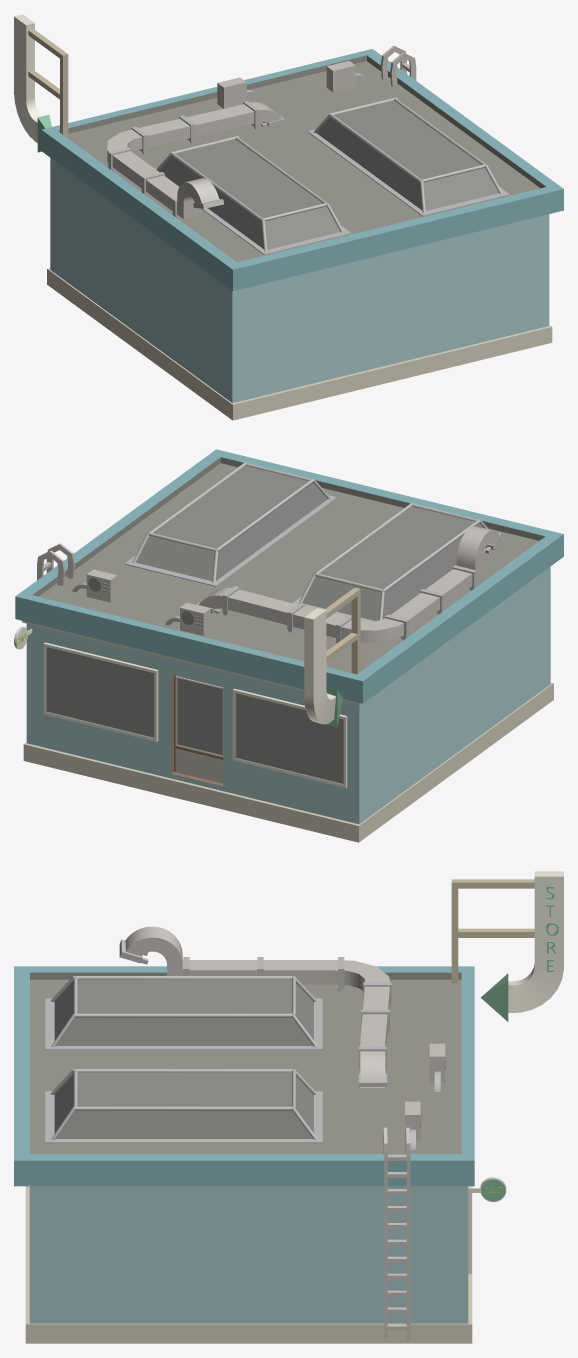
File: house27.fbx
3 renders of one model, top to bottom at view 1: azimuth 30°, elevation 25°; view 2: azimuth 150°, elevation 25°; view 3: azimuth 270°, elevation 25°, orthographic. The views are drawn at different scales.
Visible parts, largest first — view 1: e; view 2: e; view 3: e.
Part boxes in pixels (x1,y1,x2,y2): e: (14, 14, 563, 420); e: (14, 449, 563, 842); e: (14, 871, 563, 1343).
Bounding box in the file's own units: 1170 × 792 × 1373.
